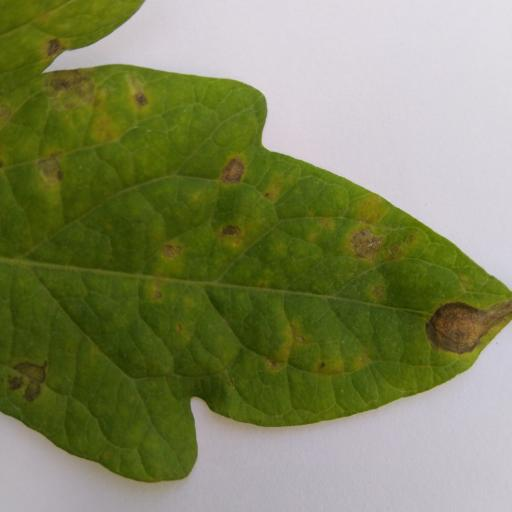disease_tomato: (0, 0, 512, 484)
